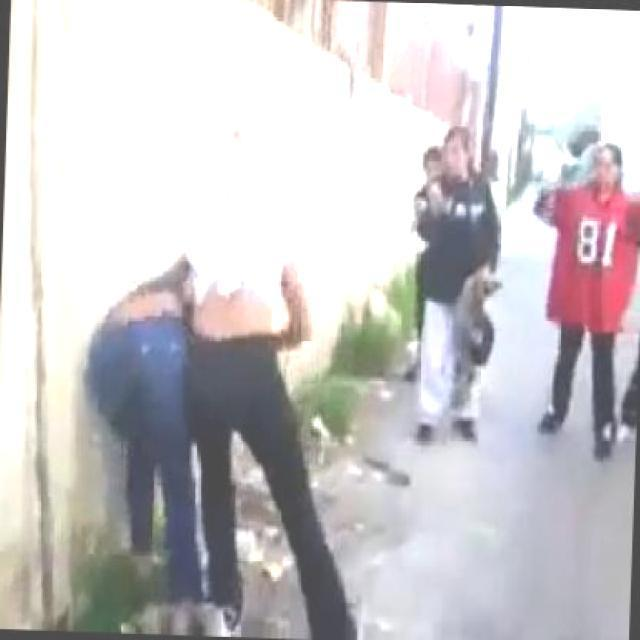fight: (79, 198, 335, 546)
non-fight: (526, 137, 639, 396), (405, 122, 503, 384)
